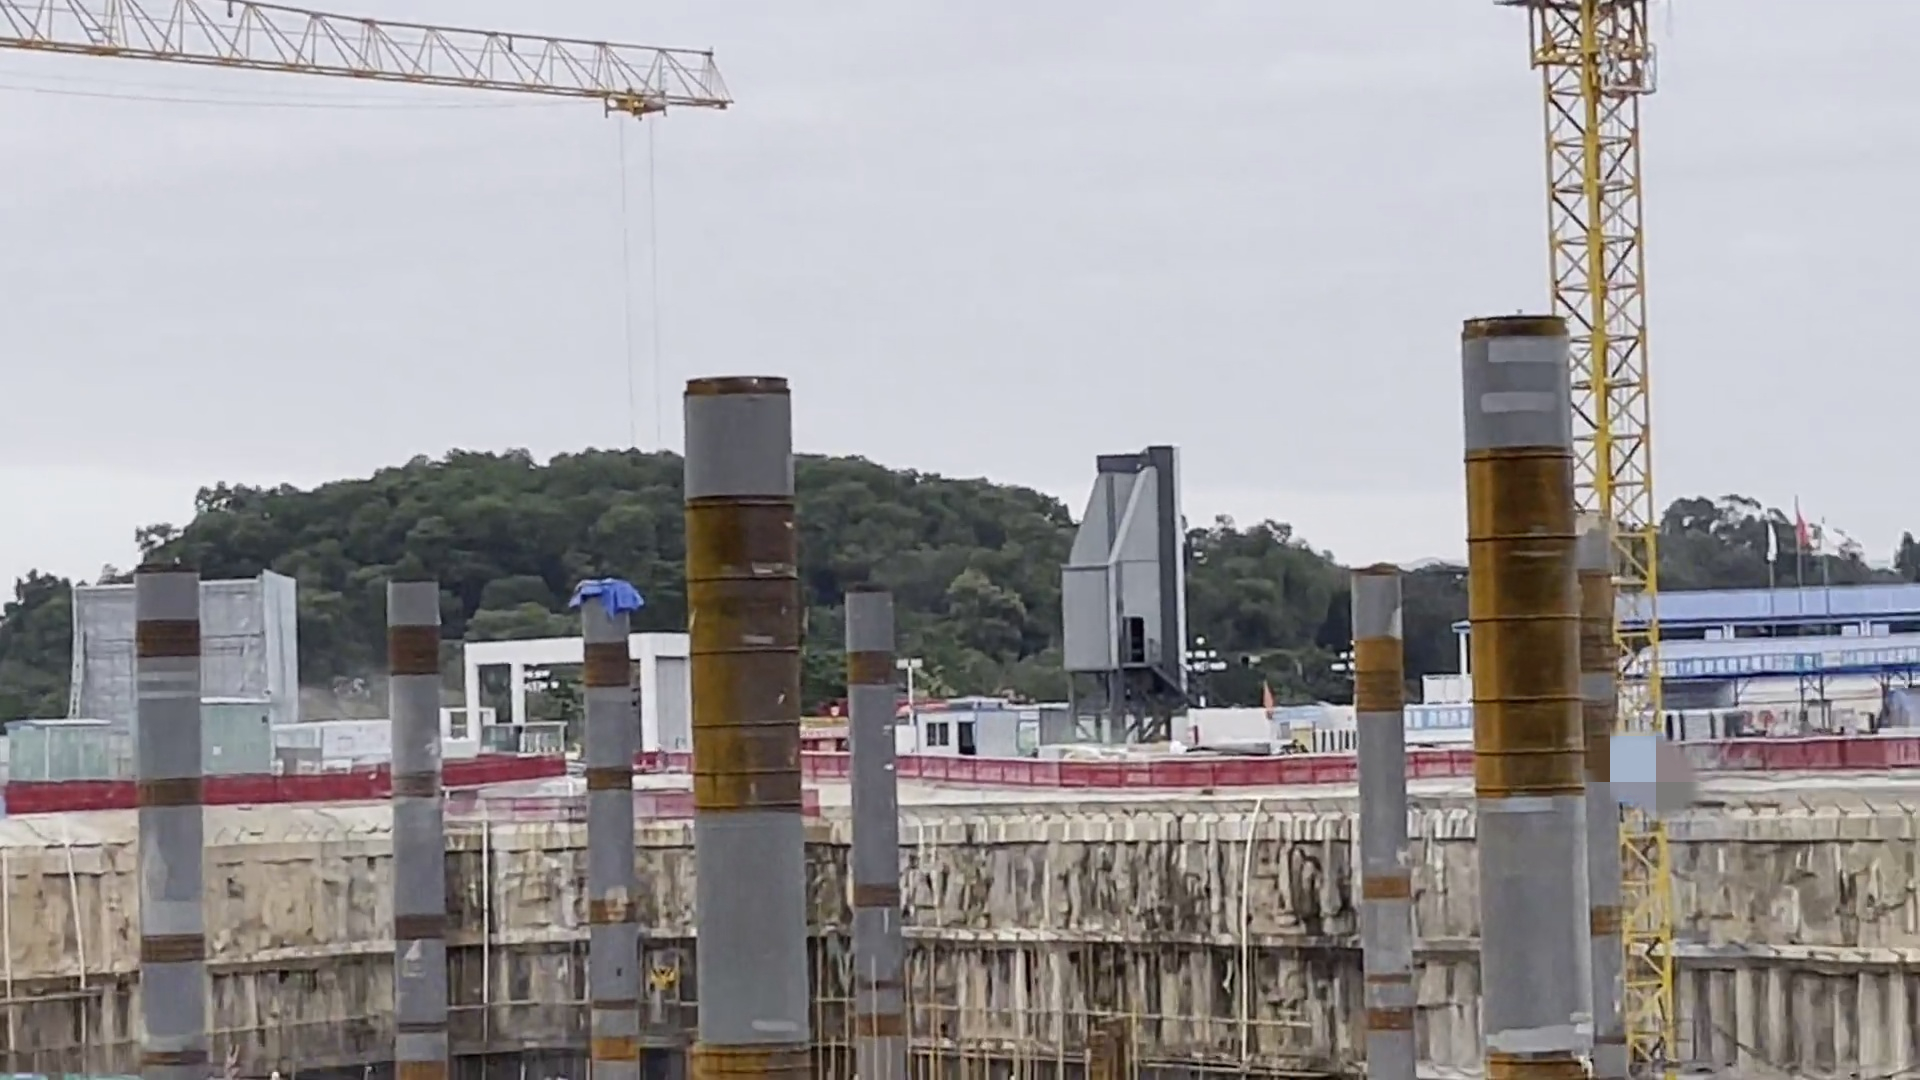fence: (11, 744, 570, 824), (802, 736, 1374, 810), (1654, 724, 1920, 785), (1406, 727, 1480, 794), (632, 736, 702, 785)
